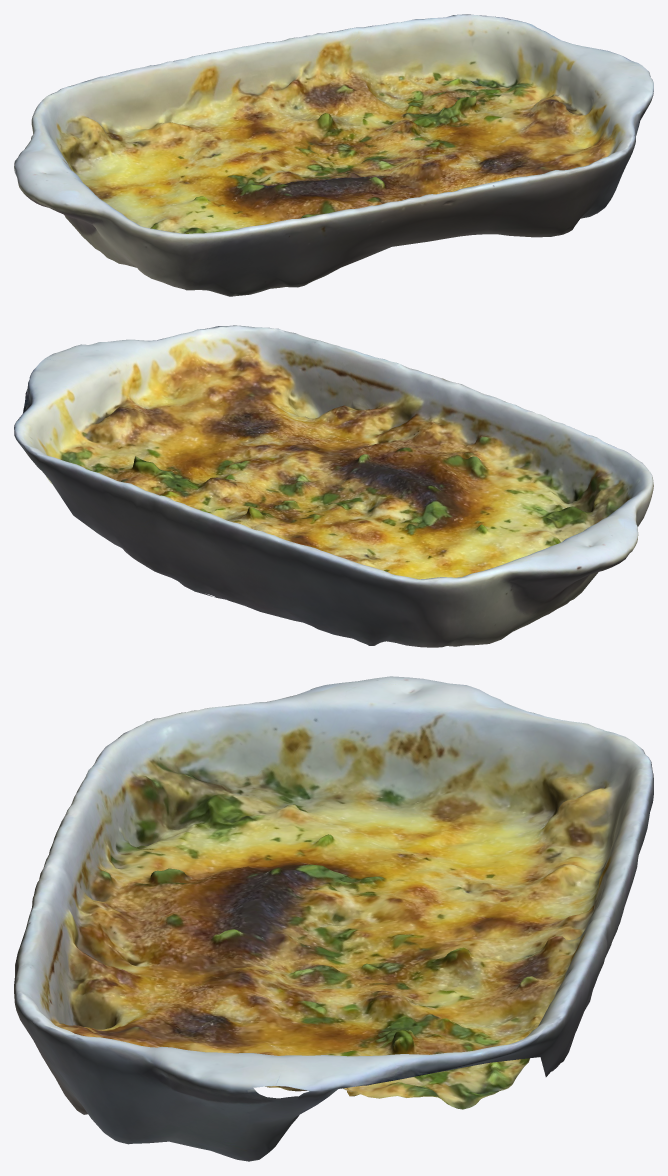
Rendered from gratin-de-poulet.glb.
3 renders of one model, top to bottom at view 1: azimuth 30°, elevation 25°; view 2: azimuth 150°, elevation 25°; view 3: azimuth 270°, elevation 25°, orthographic. The views are drawn at different scales.
Visible parts, largest first — view 1: /ObjectCapture/Geometry/Mesh; view 2: /ObjectCapture/Geometry/Mesh; view 3: /ObjectCapture/Geometry/Mesh.
Part boxes in pixels (x1,y1,x2,y2): /ObjectCapture/Geometry/Mesh: [14, 14, 653, 296]; /ObjectCapture/Geometry/Mesh: [14, 325, 653, 647]; /ObjectCapture/Geometry/Mesh: [14, 676, 653, 1161].
Bounding box in the file's own units: 0.2292 × 0.0369 × 0.1468.
Materials: 1 (1 with a texture image).
